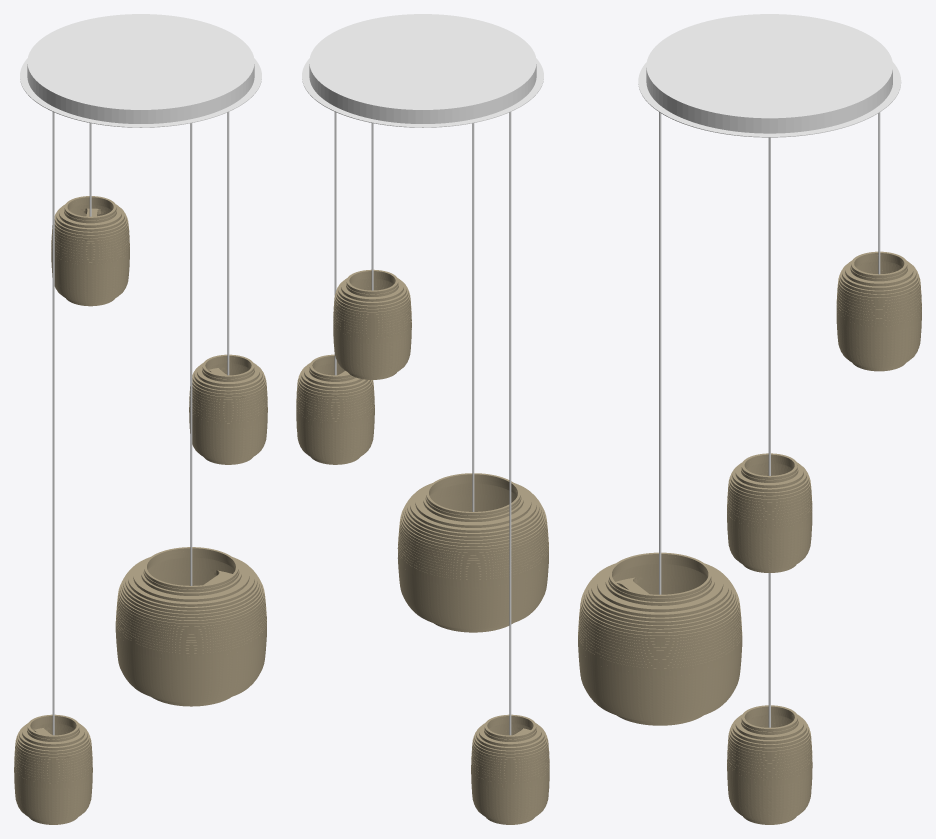
The picture shows the model from 3 angles, left to right: view 1: azimuth 30°, elevation 25°; view 2: azimuth 150°, elevation 25°; view 3: azimuth 270°, elevation 25°; orthographic projection. The views are drawn at different scales.
Size of the model in its own units: 0.6953 by 2 by 0.7847.
